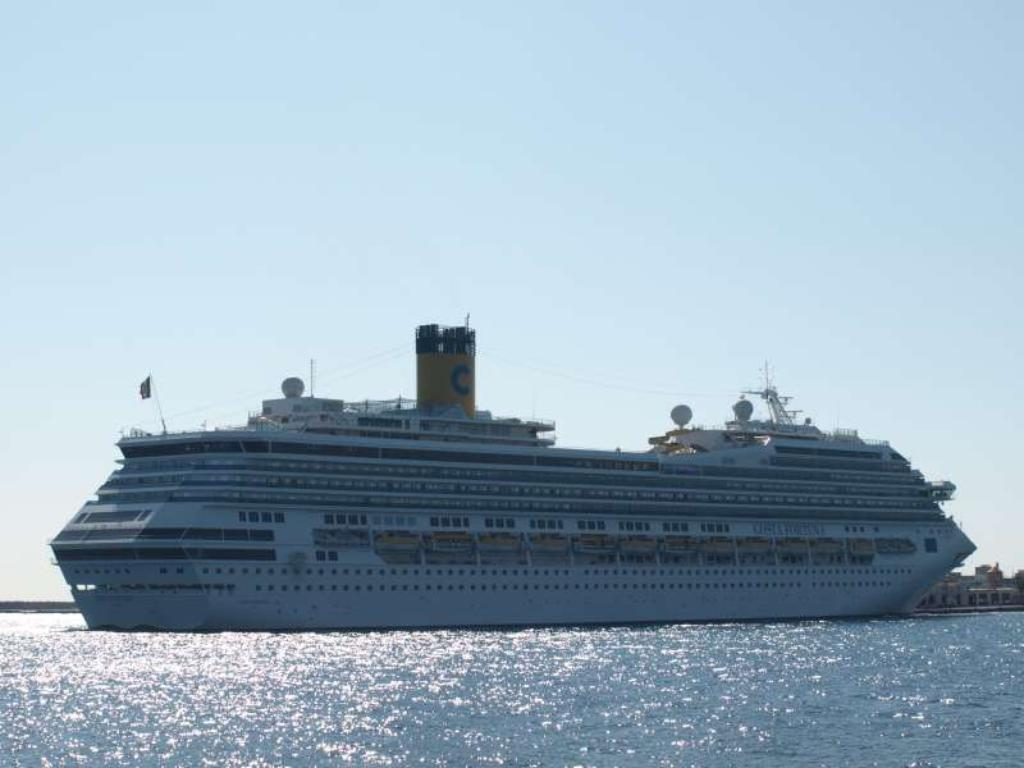PassengerShip: (48, 318, 982, 630)
